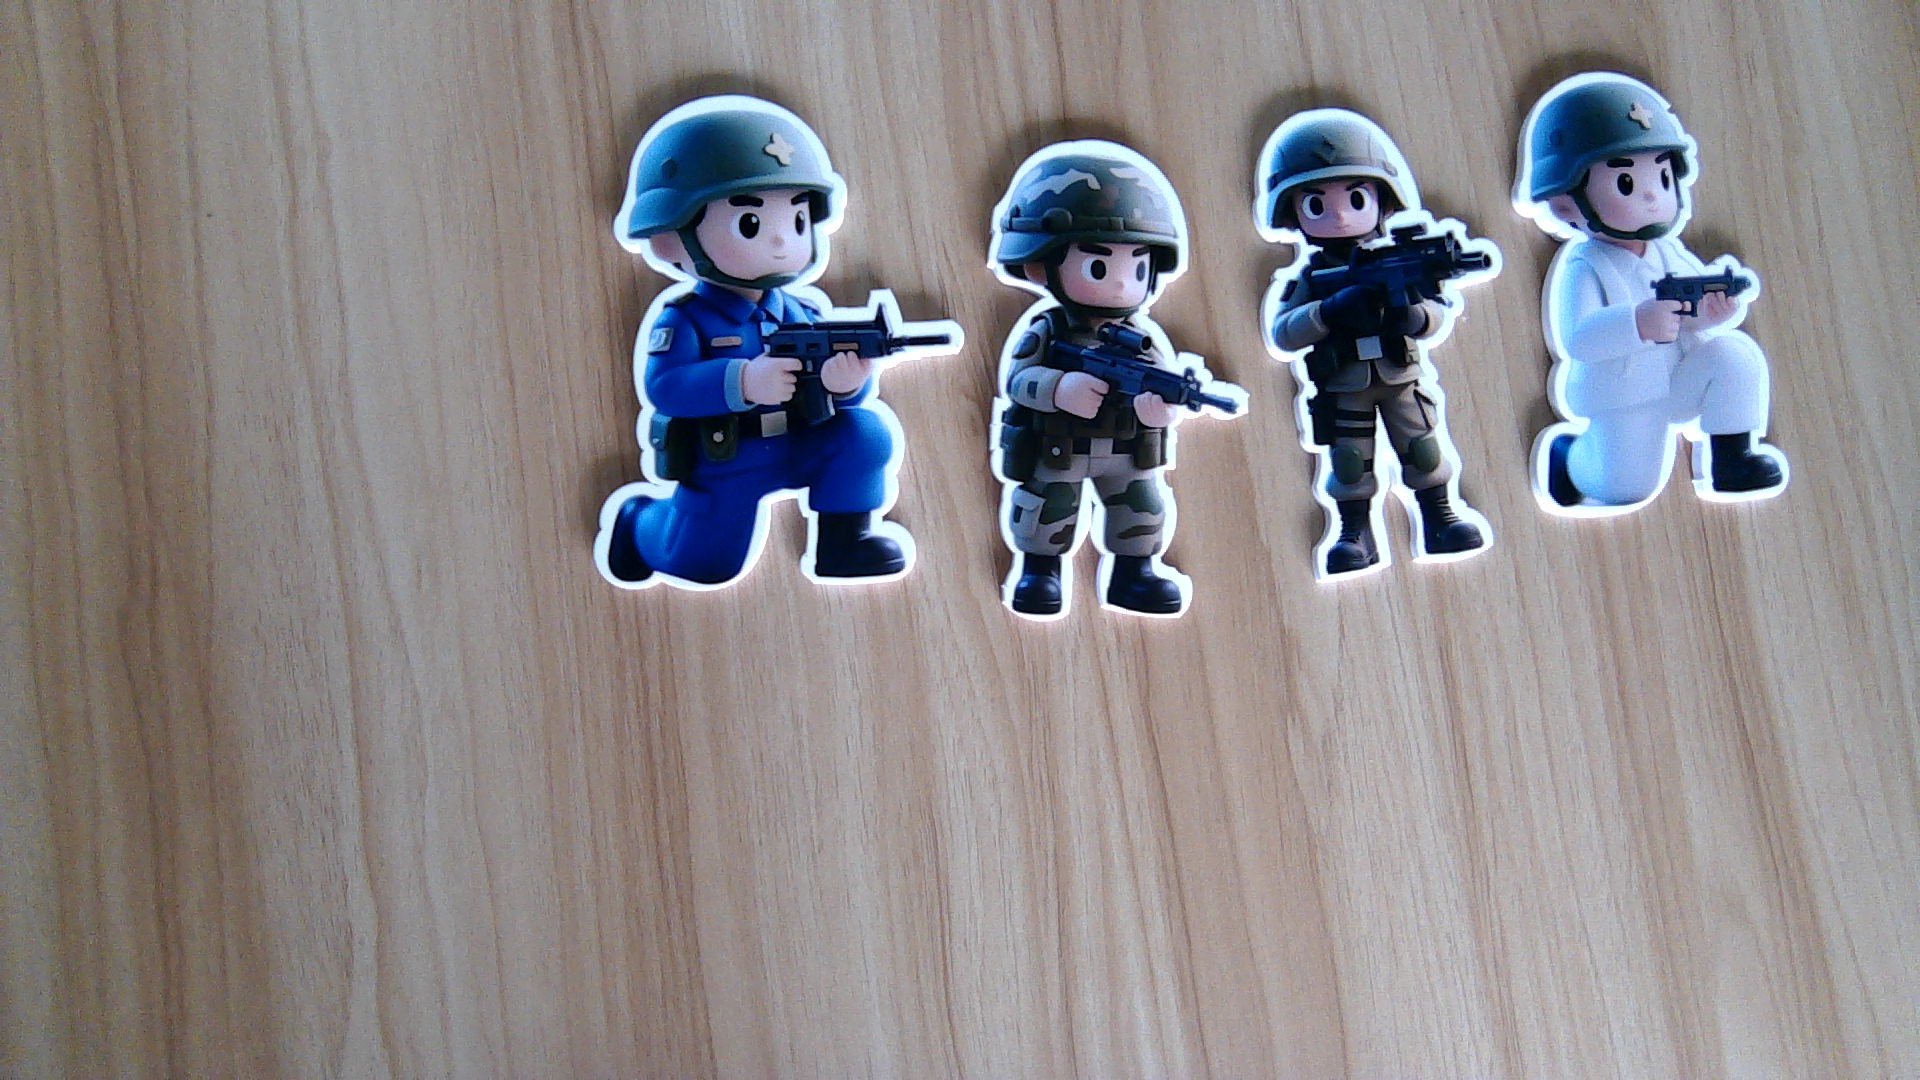人质: (1523, 240, 1803, 522)
友军: (982, 303, 1250, 630), (1253, 247, 1505, 582)
敌人2: (584, 286, 963, 595)
